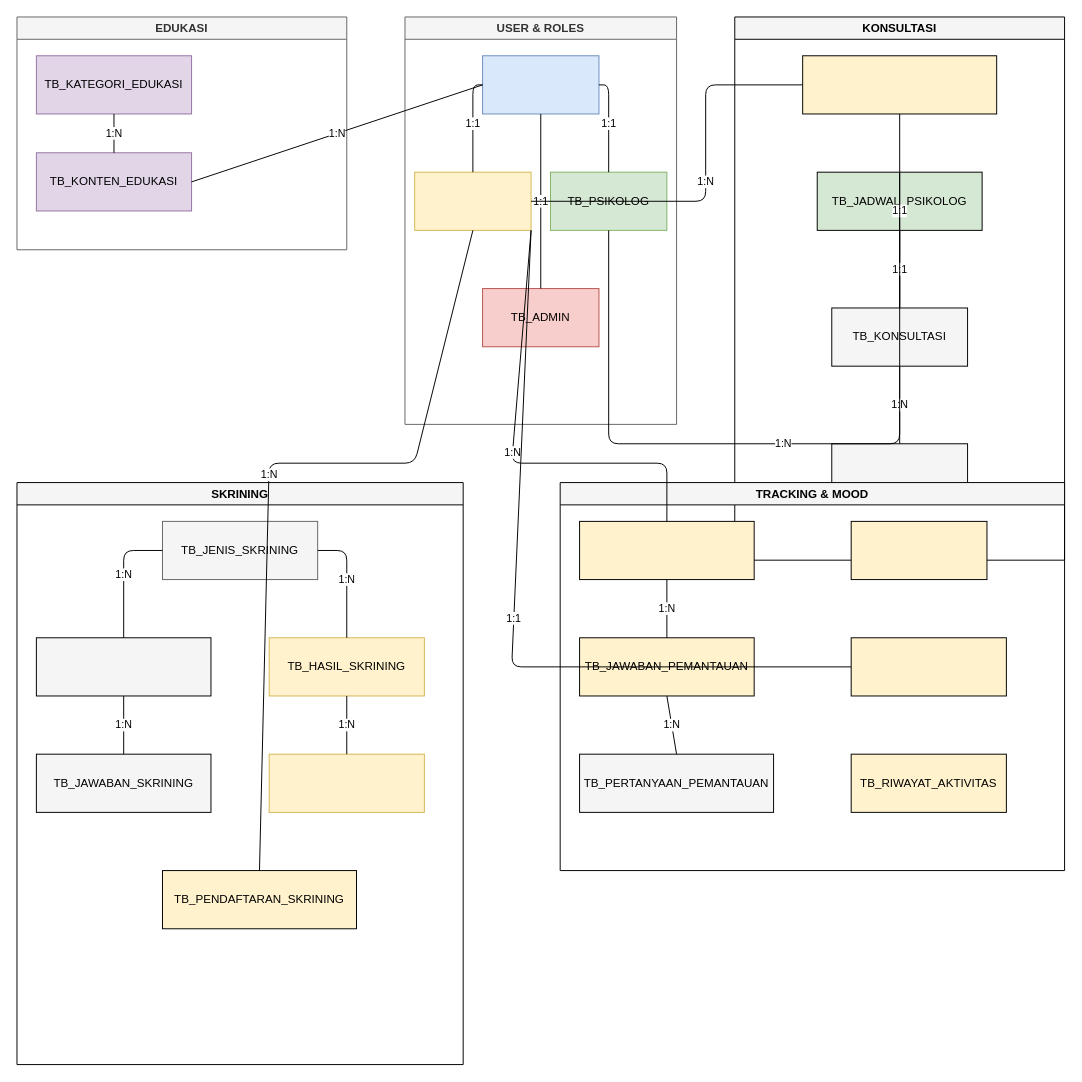
The diagram is 1082 pixels wide and 1082 high, and some of its shapes have lost their labels. Each missing label, with the centre of its shape:
"TB_CHAT_KONSULTASI" belongs at (x=899, y=472).
"TB_DETAIL_HASIL" belongs at (x=346, y=782).
"TB_MOOD_HARIAN" belongs at (x=918, y=550).
"TB_PASIEN" belongs at (x=472, y=200).
"TB_PEMANTAUAN_MENTAL" belongs at (x=666, y=550).
"TB_PENDAFTARAN_KONSULTASI" belongs at (x=899, y=84).
"TB_PERTANYAAN_SKRINING" belongs at (x=123, y=666).
"TB_RINGKASAN_PASIEN" belongs at (x=928, y=666).
"TB_USER" belongs at (x=540, y=84).
